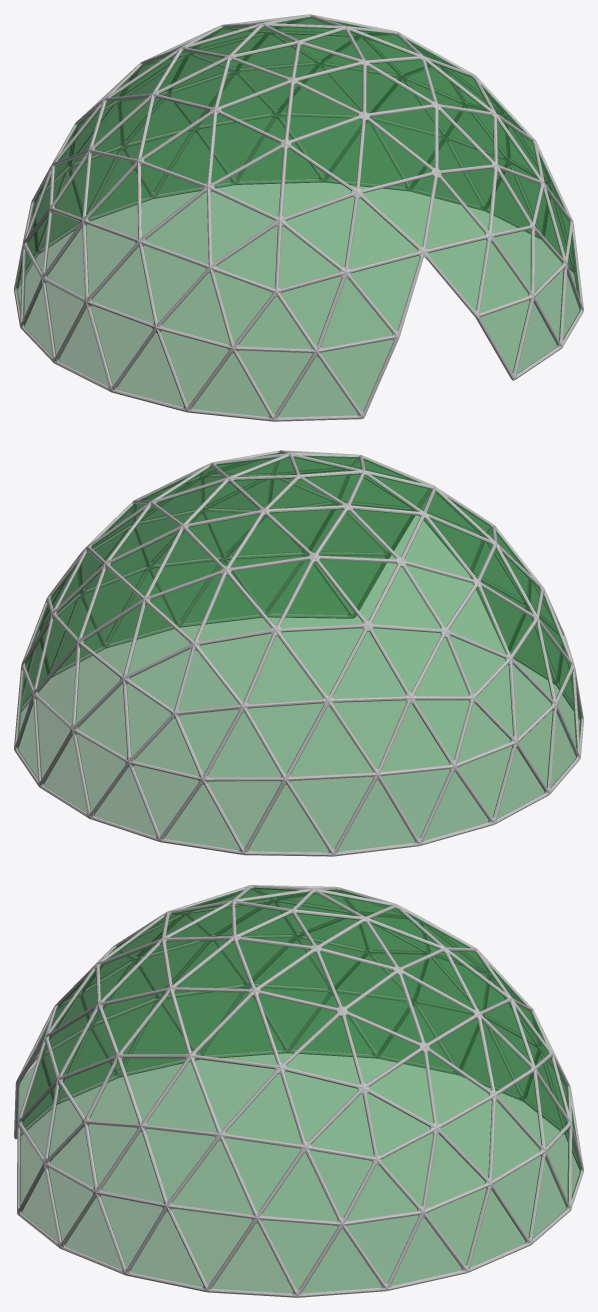
File: Dome(1).fbx
The picture shows the model from 3 angles, top to bottom: view 1: azimuth 30°, elevation 25°; view 2: azimuth 150°, elevation 25°; view 3: azimuth 270°, elevation 25°; orthographic projection.
Visible parts, largest first — view 1: Icosphere; view 2: Icosphere; view 3: Icosphere.
Part boxes in pixels (left/top/right/bottom): Icosphere: left=14, top=14, right=583, bottom=421; Icosphere: left=14, top=450, right=583, bottom=856; Icosphere: left=14, top=885, right=583, bottom=1297.
Size of the model in its own units: 414 by 208 by 405.
